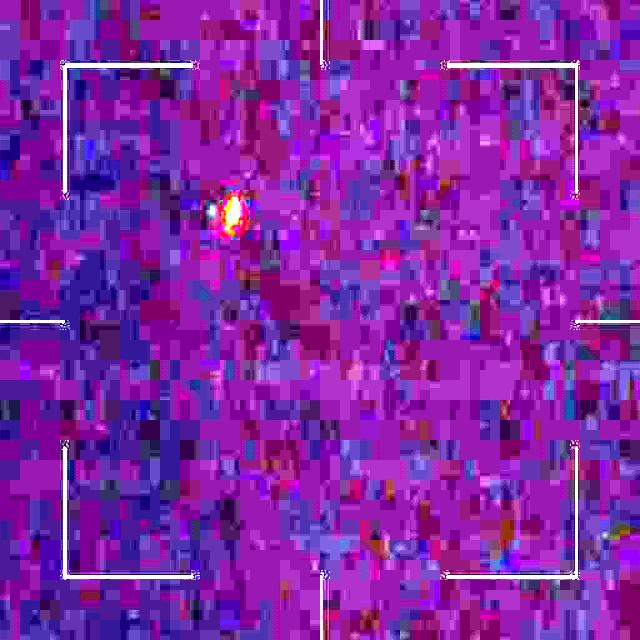bird: (220, 194, 242, 238)
